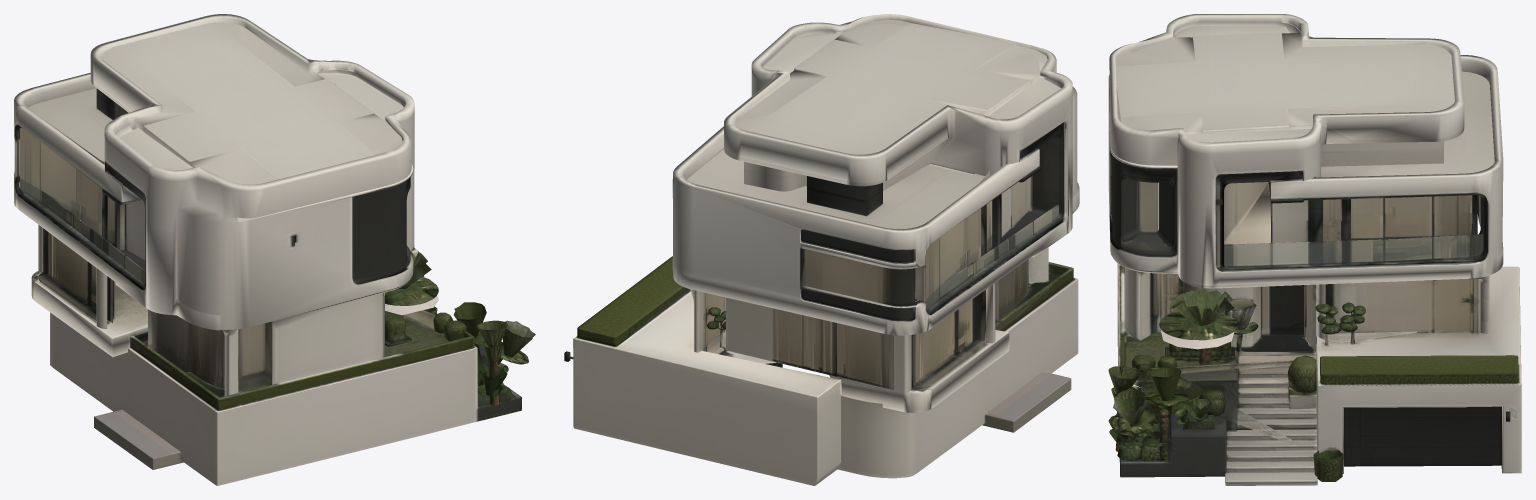
File: town-white-house.2048.glb
3 views of the same model, side by side, from view 1: azimuth 30°, elevation 25°; view 2: azimuth 150°, elevation 25°; view 3: azimuth 270°, elevation 25° (orthographic).
Parts seen in each view (by area): view 1: tripo_node_00d98263-4849-4aed-99a4-9f35990b7e39; view 2: tripo_node_00d98263-4849-4aed-99a4-9f35990b7e39; view 3: tripo_node_00d98263-4849-4aed-99a4-9f35990b7e39.
Part boxes in pixels (x1,y1,x2,y2): tripo_node_00d98263-4849-4aed-99a4-9f35990b7e39: (14, 14, 535, 485); tripo_node_00d98263-4849-4aed-99a4-9f35990b7e39: (564, 14, 1079, 485); tripo_node_00d98263-4849-4aed-99a4-9f35990b7e39: (1108, 14, 1521, 485).
Bounding box in the file's own units: 0.9897 × 0.8228 × 0.9995.
Materials: 1 (1 with a texture image).
